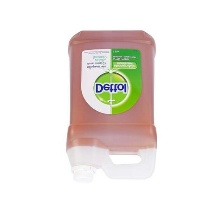cleaning_solution: (61, 24, 161, 188)
